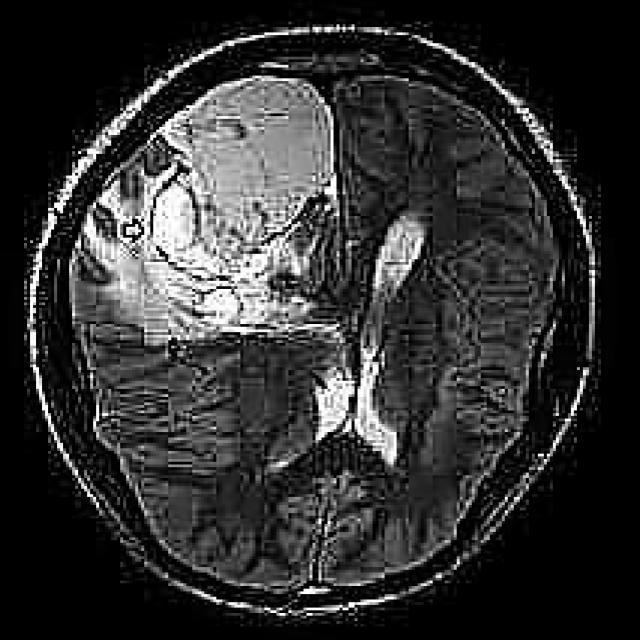Tumor-Cell: (86, 66, 364, 339)
